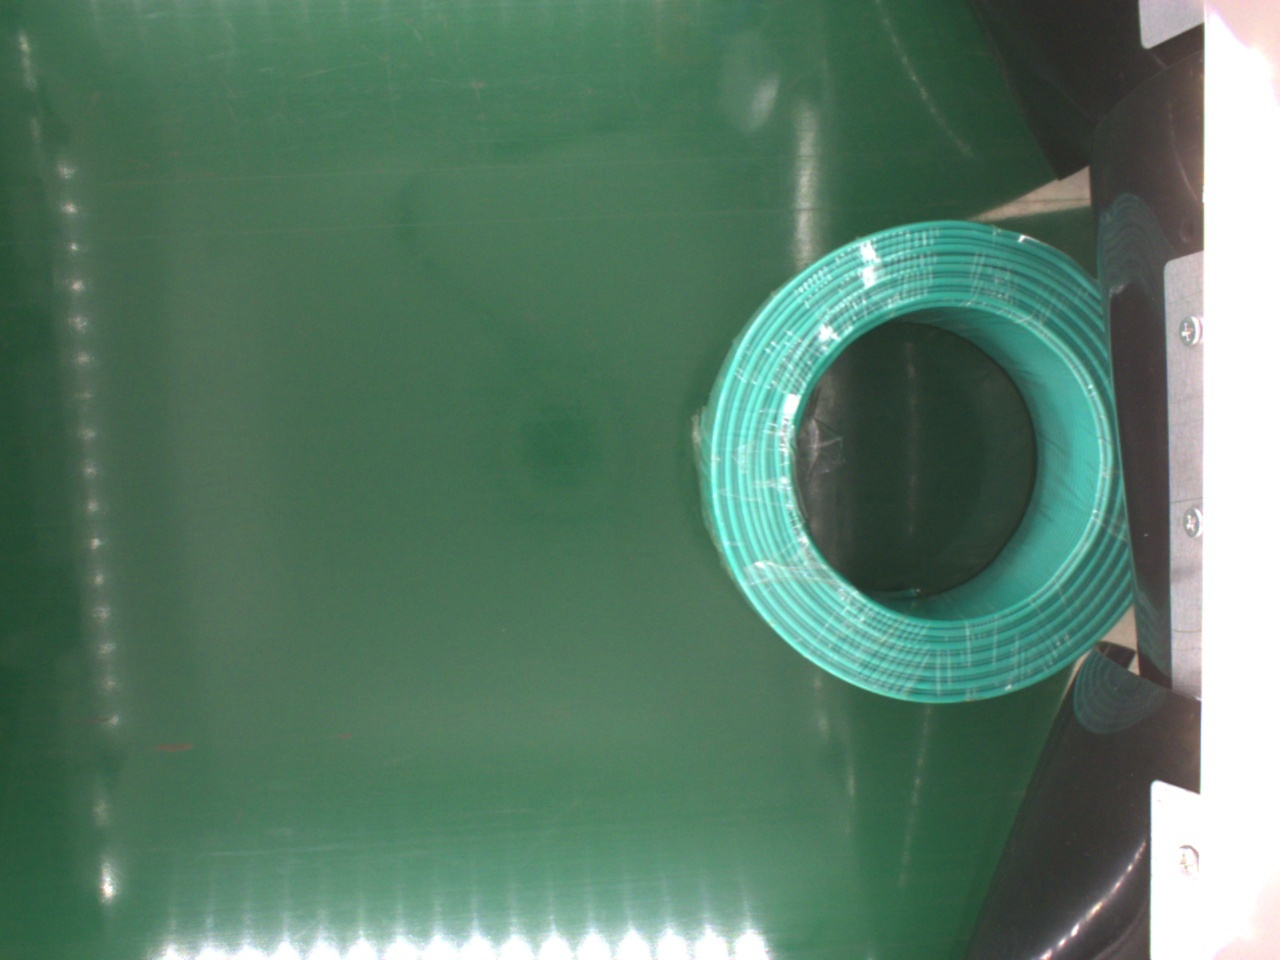green: (695, 218, 1138, 708)
